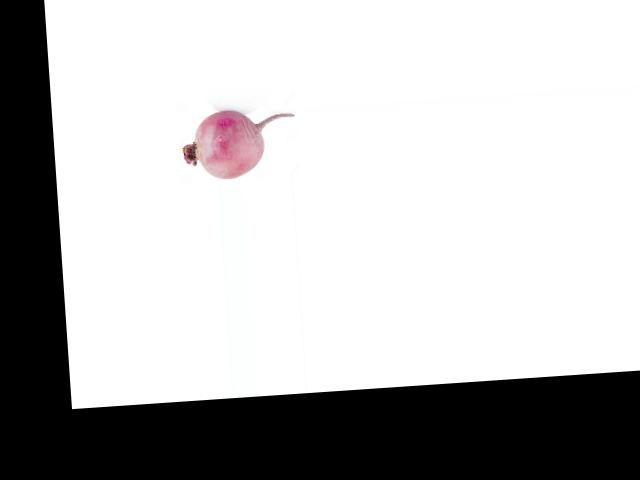beet: (180, 105, 298, 181)
